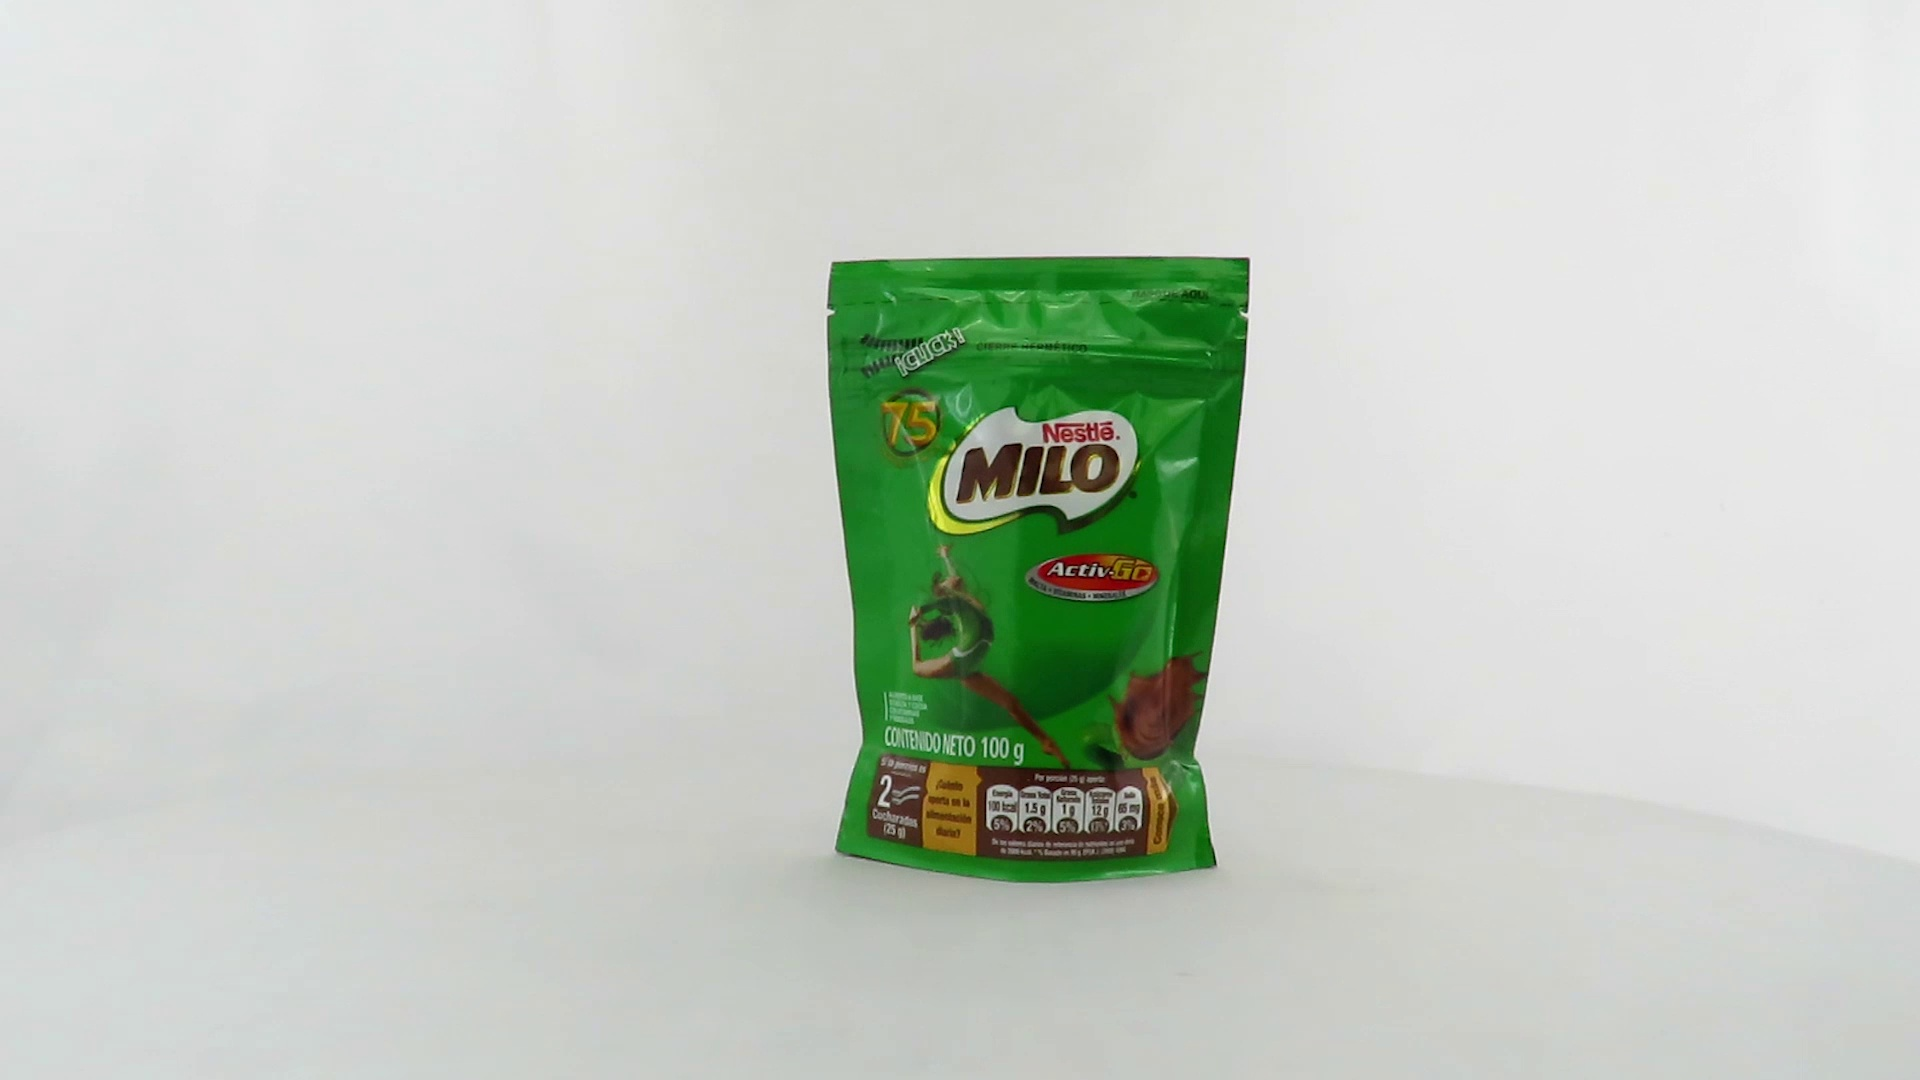COL0170203DYP10000: (822, 251, 1255, 890)
